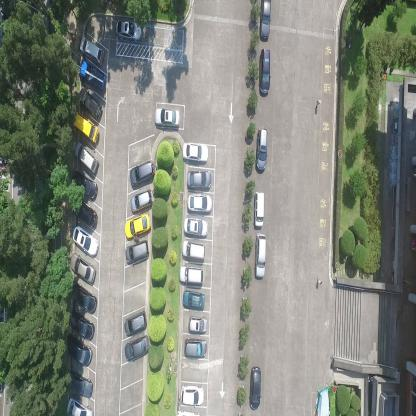car: (71, 225, 100, 257), (71, 168, 98, 202), (72, 110, 98, 145), (73, 142, 99, 176), (69, 253, 97, 284), (67, 308, 94, 340), (66, 334, 93, 366), (79, 60, 106, 90), (125, 210, 151, 240), (78, 34, 104, 64), (70, 284, 96, 314), (77, 88, 102, 119), (114, 17, 143, 43), (124, 333, 149, 363), (67, 371, 93, 399), (130, 157, 154, 187), (73, 199, 97, 228), (258, 46, 271, 97), (125, 239, 149, 266), (124, 307, 147, 335), (248, 366, 262, 411), (254, 231, 267, 279), (255, 126, 268, 172), (186, 193, 212, 216), (182, 238, 206, 262), (154, 106, 179, 129), (184, 216, 209, 239), (258, 0, 272, 41), (183, 140, 209, 162), (179, 265, 205, 287), (181, 290, 206, 312), (183, 338, 208, 360), (186, 169, 212, 190), (130, 188, 153, 211), (180, 383, 204, 405), (67, 396, 93, 415), (187, 316, 208, 335), (254, 191, 264, 230)
